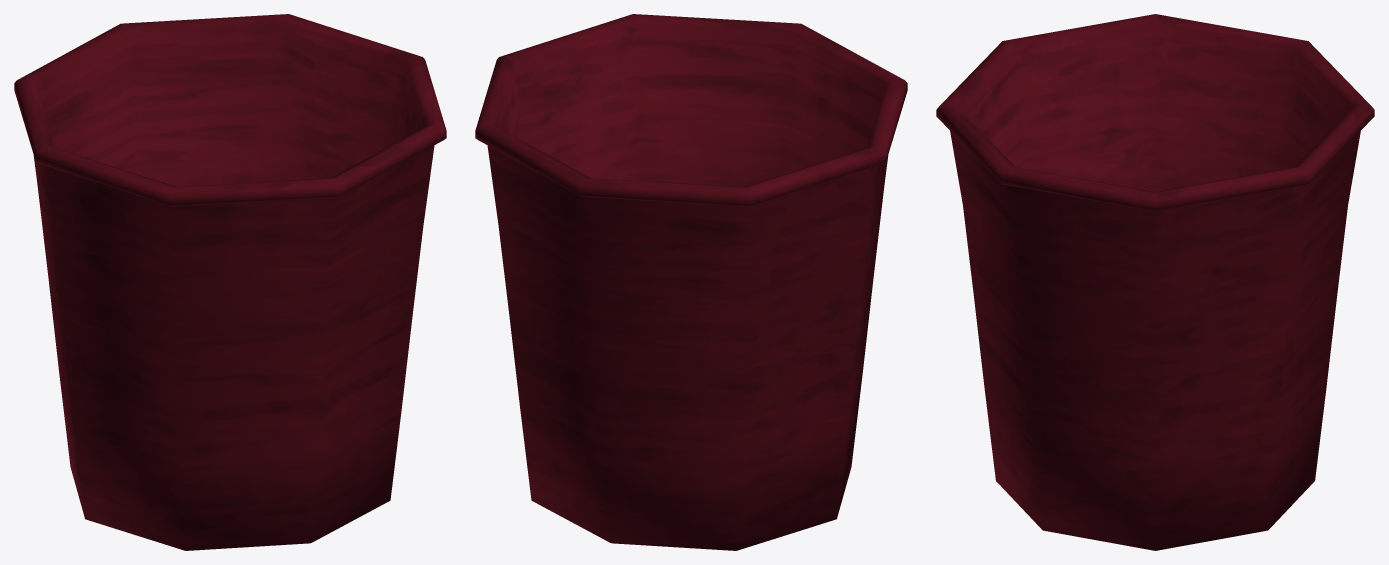
The model's file is cabinet.fbx.
3 views of the same model, side by side, from view 1: azimuth 30°, elevation 25°; view 2: azimuth 150°, elevation 25°; view 3: azimuth 270°, elevation 25° (orthographic).
Visible parts, largest first — view 1: Bin_BAKED; view 2: Bin_BAKED; view 3: Bin_BAKED.
Boxes of the visible parts, x1=… form: Bin_BAKED: x1=14, y1=14, x2=446, y2=550; Bin_BAKED: x1=475, y1=14, x2=907, y2=550; Bin_BAKED: x1=936, y1=14, x2=1374, y2=550.
Size of the model in its own units: 37.45 by 35.3 by 37.01.
